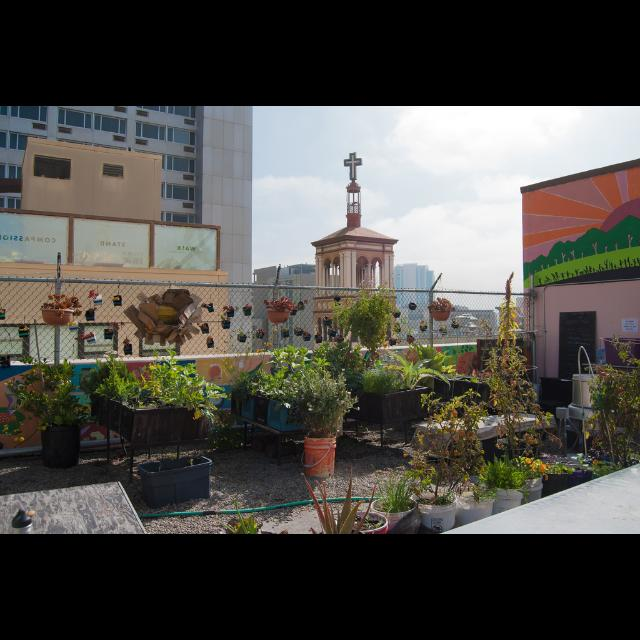Flower: (538, 462, 544, 476), (524, 458, 532, 467), (545, 462, 551, 470), (593, 462, 597, 468)
